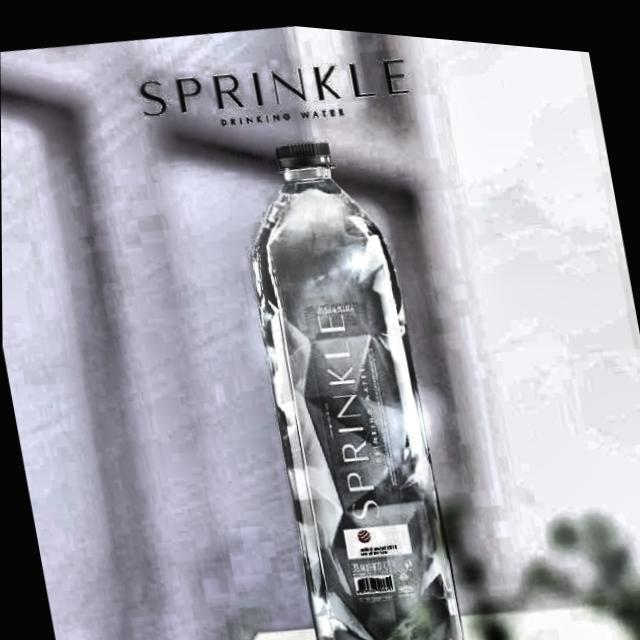Bottles: (196, 104, 510, 640)
